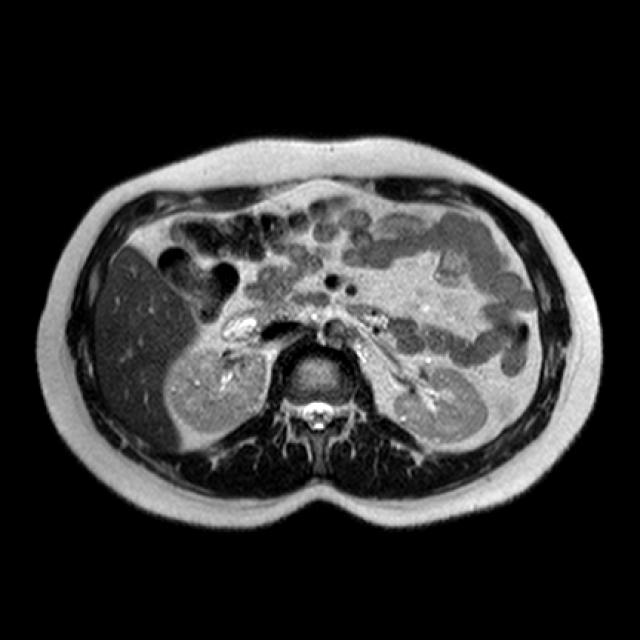sag: (167, 346, 267, 435)
sol: (393, 367, 488, 447)
